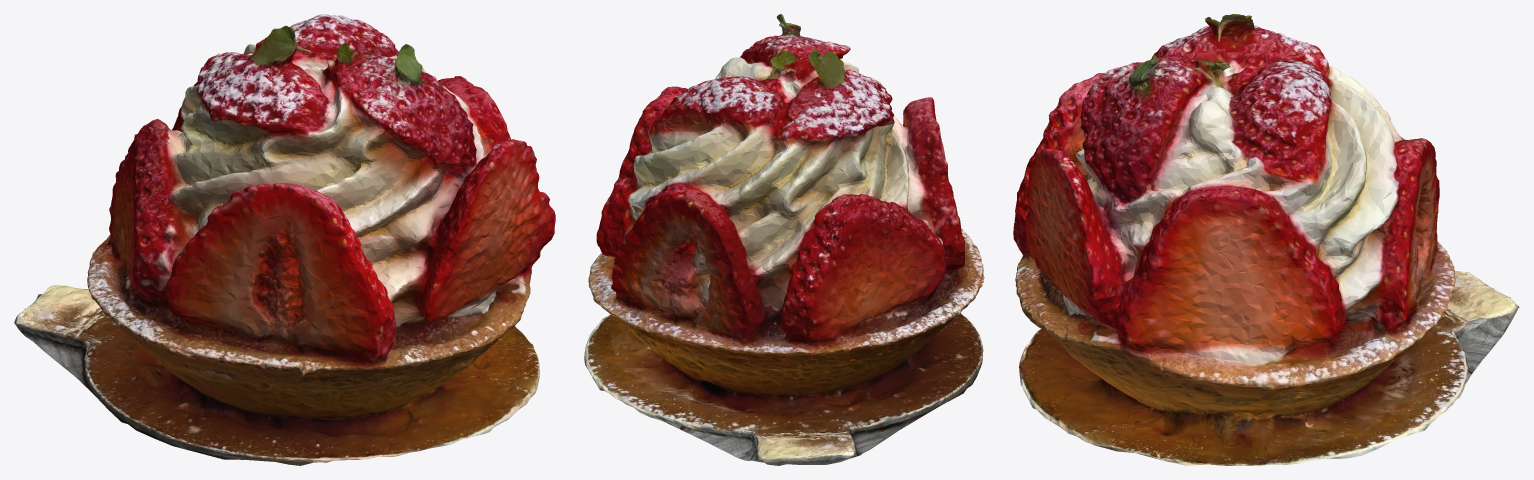
File: Strawberry cake-optimized.glb
The picture shows the model from 3 angles, left to right: view 1: azimuth 30°, elevation 25°; view 2: azimuth 150°, elevation 25°; view 3: azimuth 270°, elevation 25°; orthographic projection. The views are drawn at different scales.
Bounding box in the file's own units: 0.0823 × 0.0718 × 0.093.
1 material, 1 textured.
